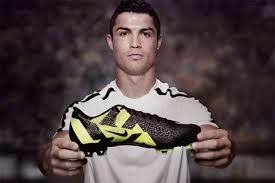nike: (106, 129, 128, 138)
